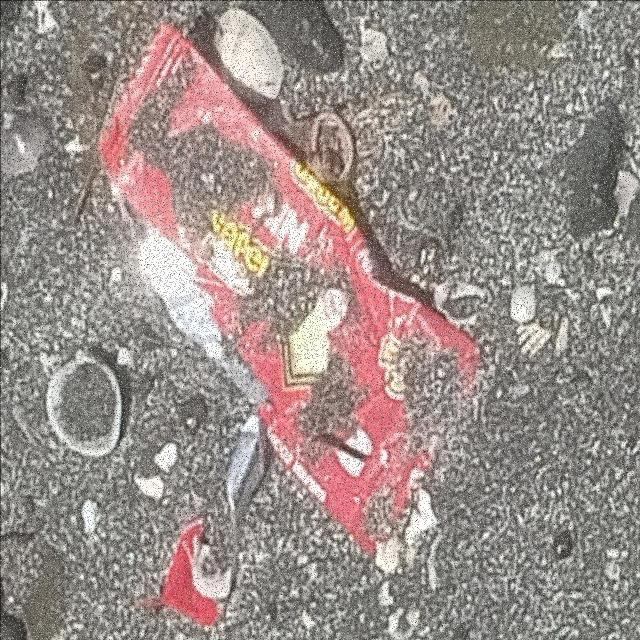plastic_waste: (89, 23, 481, 564)
